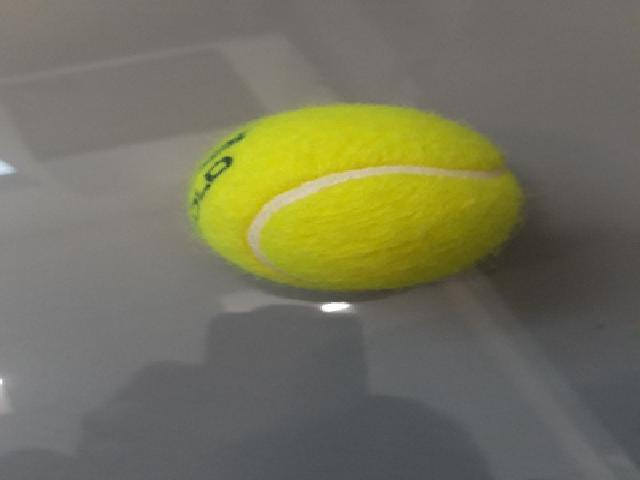Ball: (184, 103, 526, 294)
